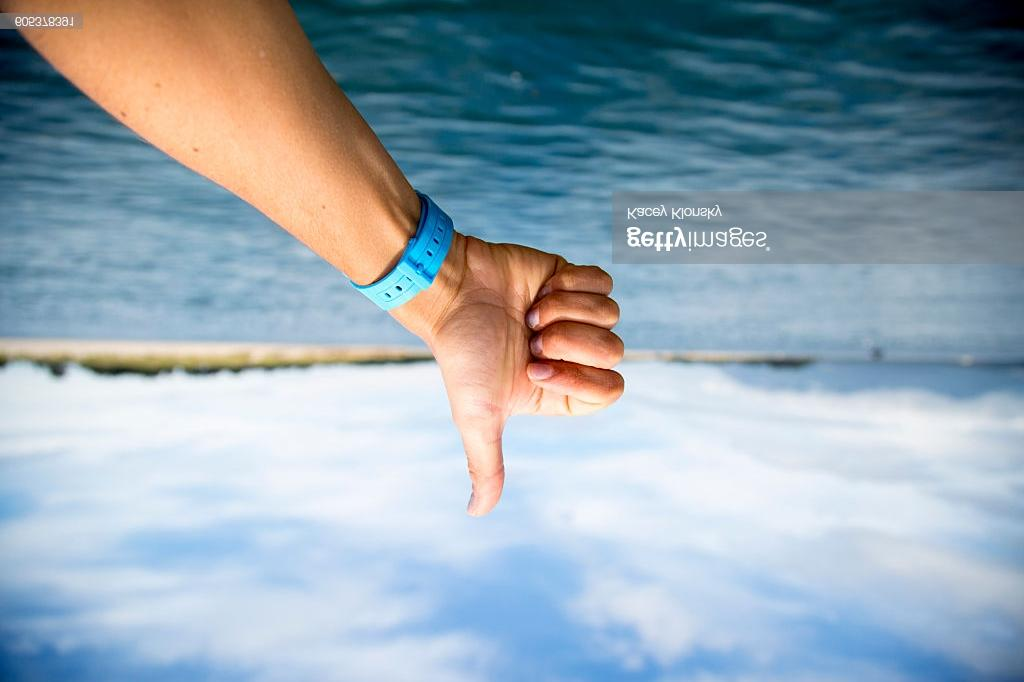thumbsdown: (463, 262, 624, 518)
